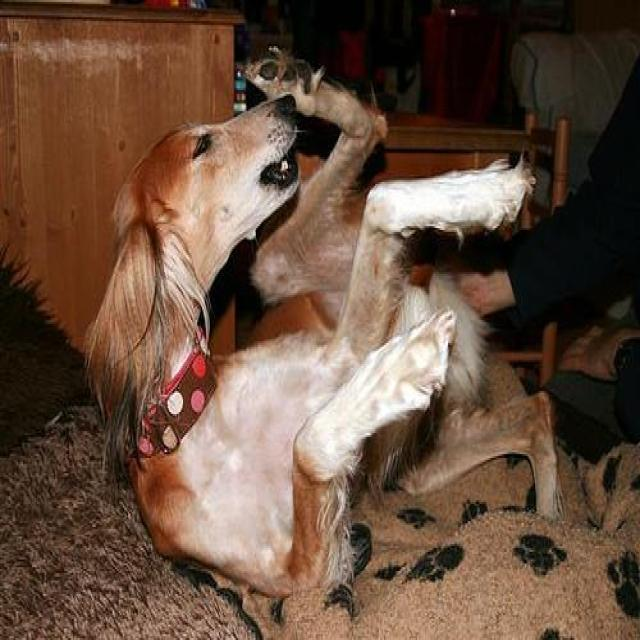saluki: (86, 44, 563, 598)
